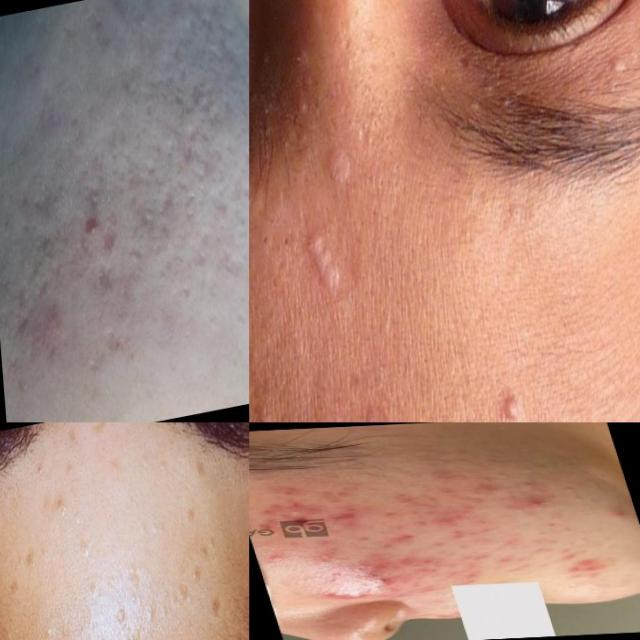8: (372, 489, 443, 514), (426, 504, 489, 531), (36, 296, 70, 342), (296, 542, 353, 566), (473, 481, 516, 500), (364, 572, 411, 585), (601, 505, 634, 522), (514, 480, 546, 492)
9: (514, 496, 557, 511)
blackheads: (16, 168, 68, 220), (175, 110, 208, 173), (129, 188, 157, 240), (556, 553, 622, 575), (270, 496, 328, 521), (204, 29, 238, 70), (208, 167, 230, 222), (92, 266, 120, 306), (155, 175, 180, 218), (384, 527, 439, 545), (215, 88, 236, 131), (318, 586, 373, 602), (99, 229, 118, 256), (324, 510, 365, 522)
dark spot: (249, 215, 274, 266), (275, 211, 296, 258)
